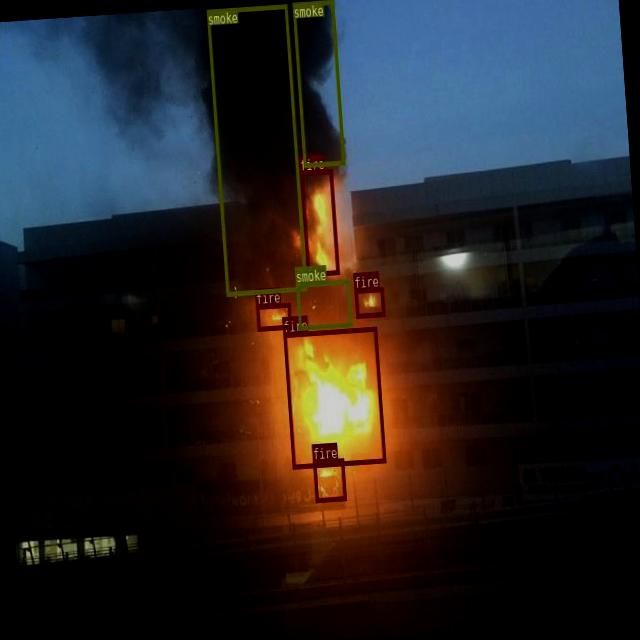fire: (282, 326, 386, 468), (299, 168, 338, 276), (312, 458, 346, 502), (254, 302, 292, 330), (354, 286, 384, 316)
smoke: (206, 2, 306, 296), (291, 0, 344, 166), (295, 278, 352, 328)
